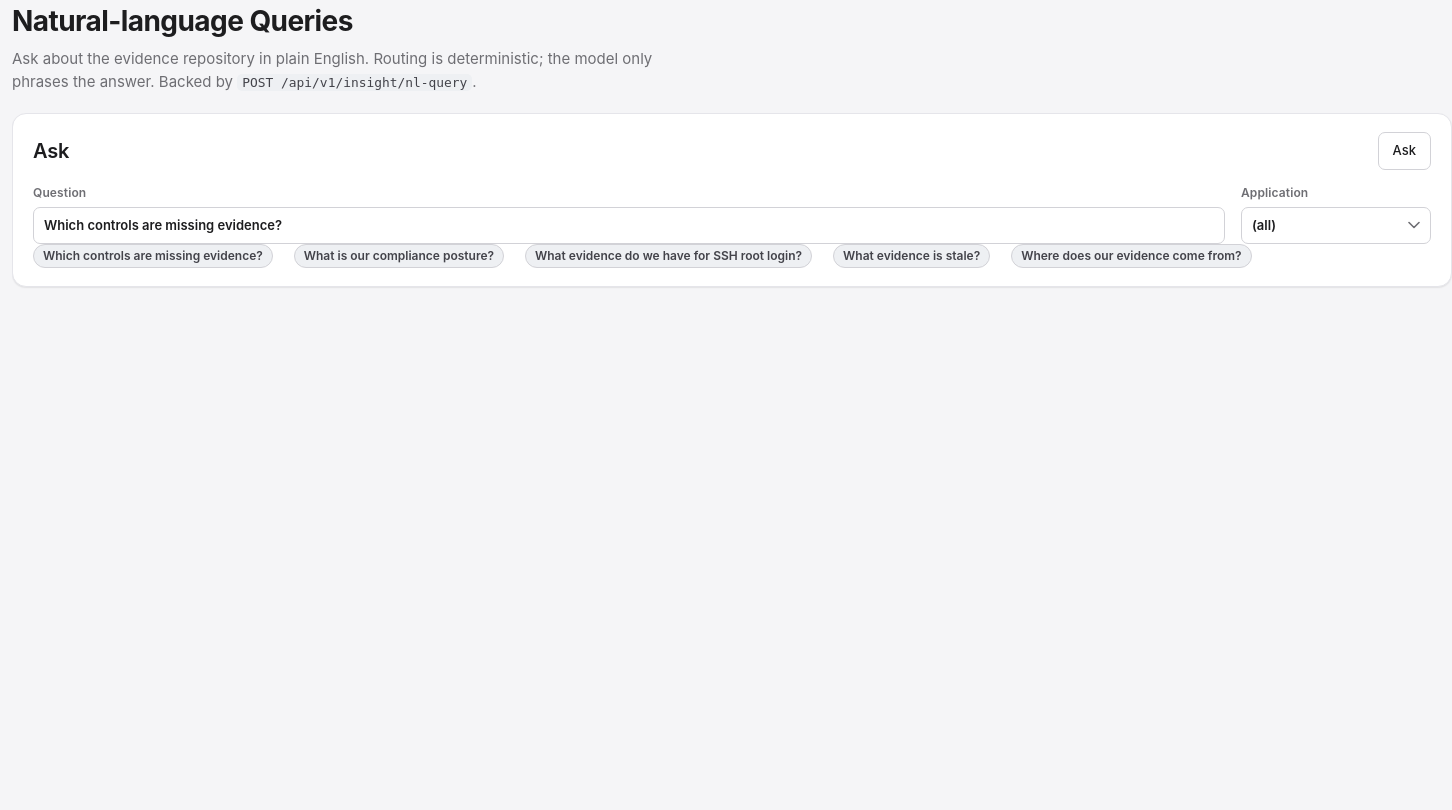
Test: NlQuery › reports an unmatched question as unsupported and lists what it can answer (UC-P2-4)
The width and height of the screenshot is (1452, 810).
Replace the text in the field labelled "Question" with "what is the capital of France?" at (629, 225), box top-left (33, 206), bottom-right (1225, 244)
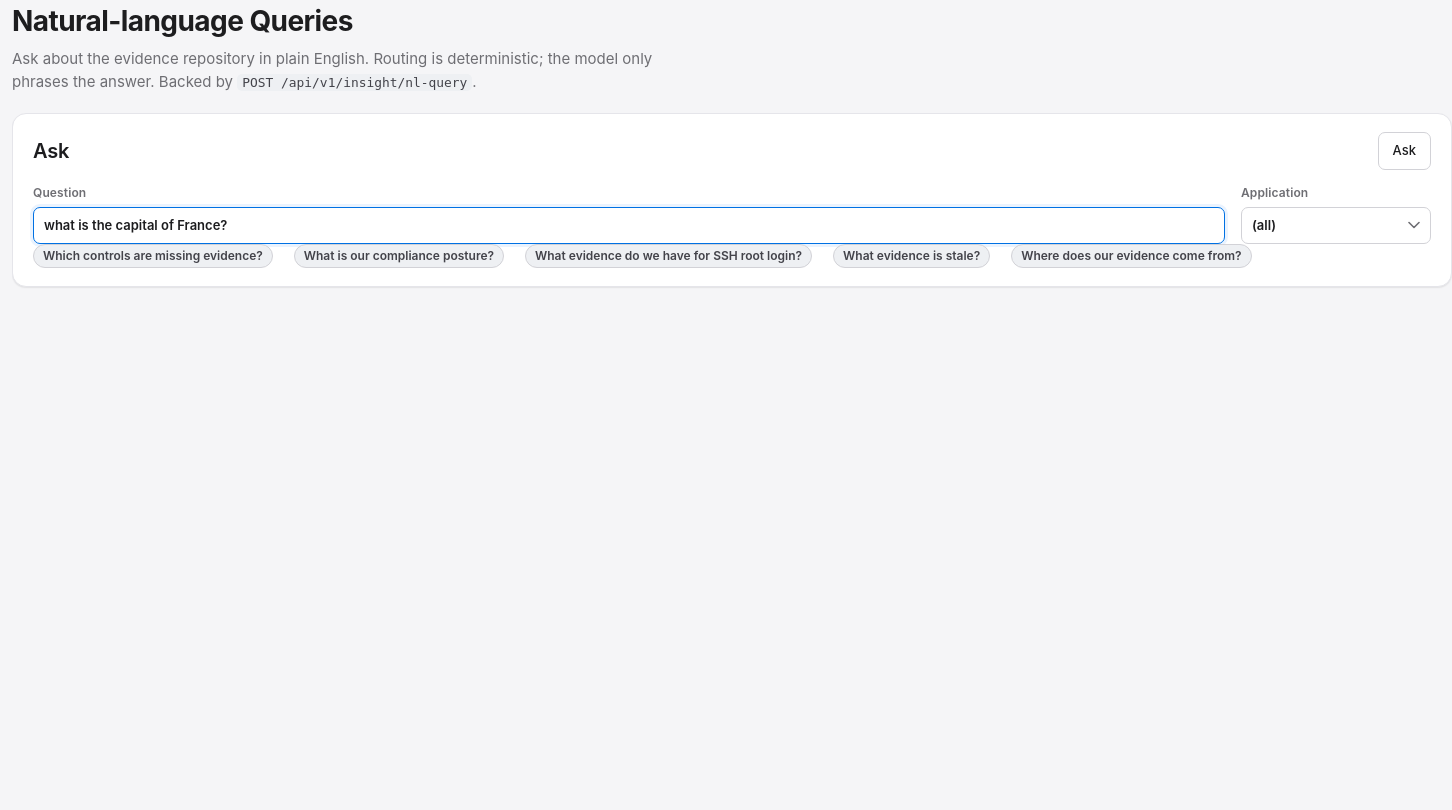
Click the button "Ask" at (1404, 151), box top-left (1378, 132), bottom-right (1431, 170)
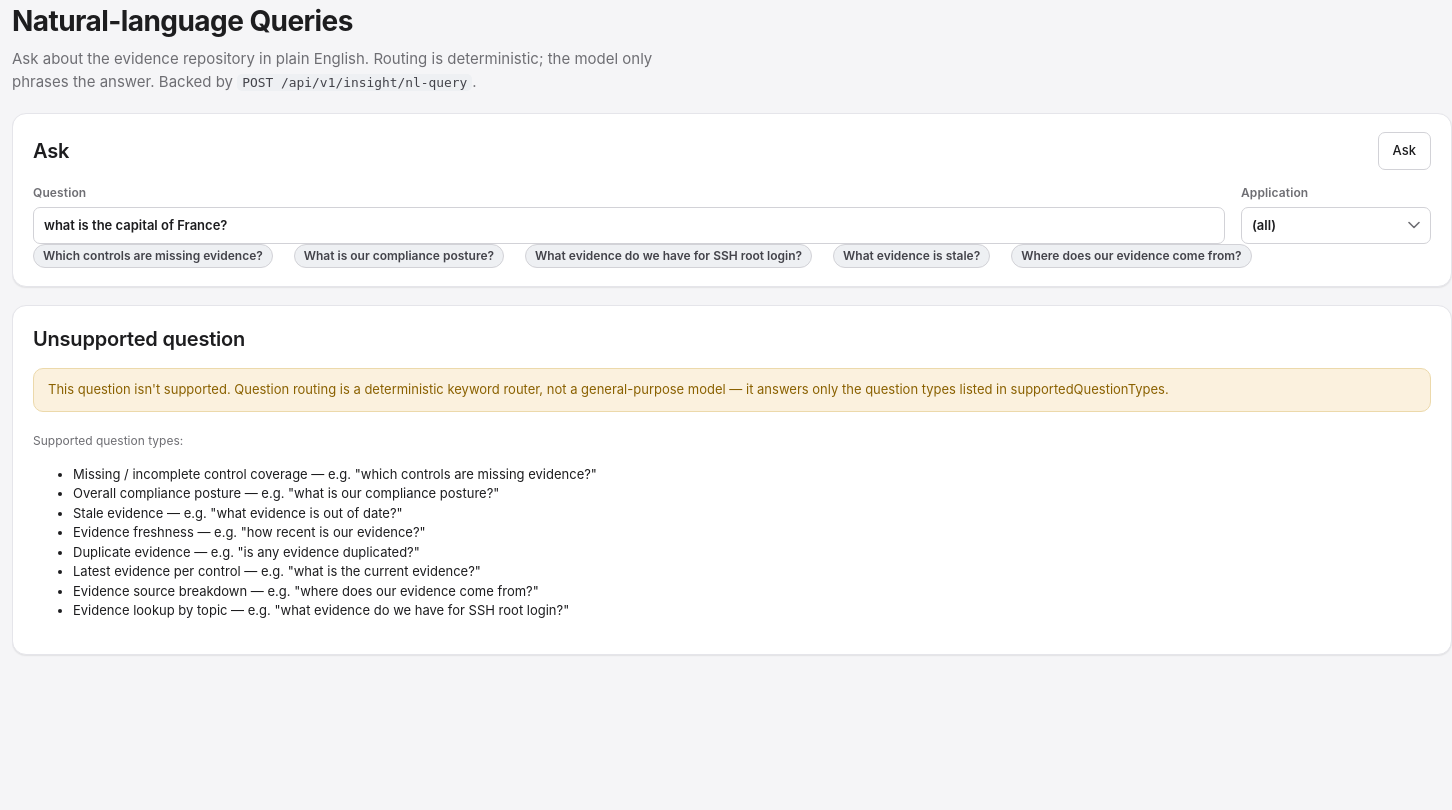
expect the heading "Unsupported question" is shown: met, box top-left (33, 324), bottom-right (245, 354)
expect the message shows "isn't supported": met, box top-left (48, 381), bottom-right (1169, 397)
expect the text "Supported question types:" is shown: met, box top-left (33, 432), bottom-right (183, 448)
